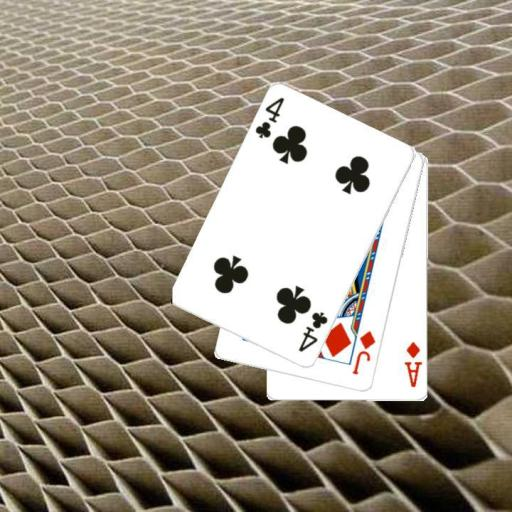4C: (295, 309, 329, 354), (252, 95, 286, 140)
AD: (402, 339, 424, 389)
JD: (349, 328, 378, 377)
